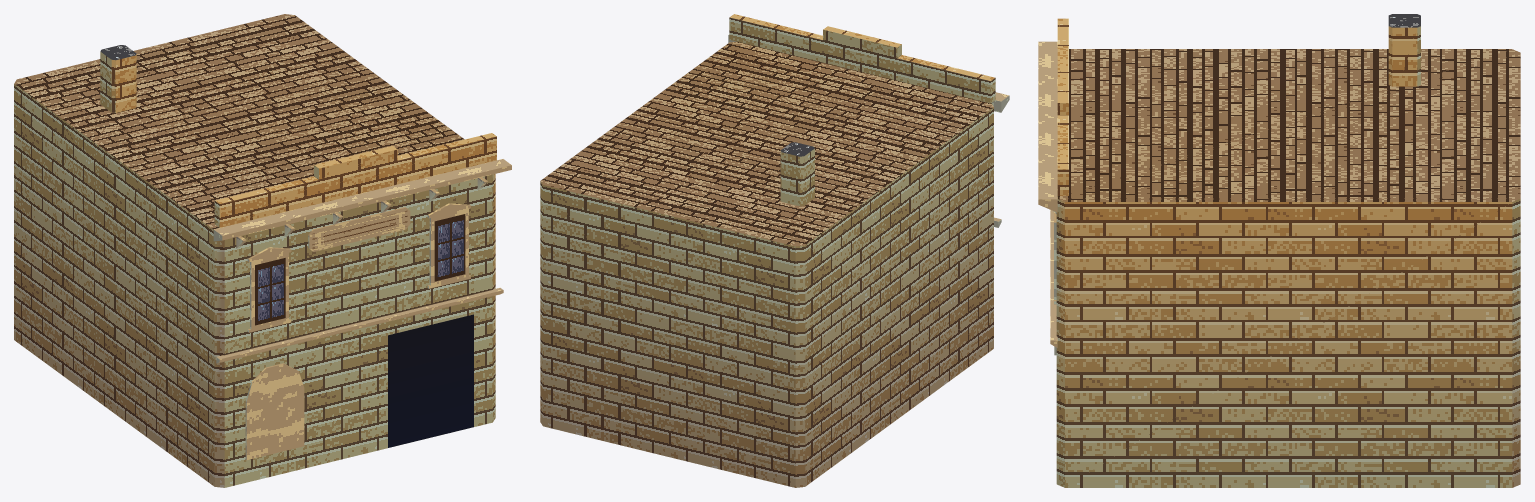
The model's file is wtown.bank__entry.glb.
3 views of the same model, side by side, from view 1: azimuth 30°, elevation 25°; view 2: azimuth 150°, elevation 25°; view 3: azimuth 270°, elevation 25° (orthographic). The views are drawn at different scales.
Parts seen in each view (by area): view 1: kit_body, kit_trim, kit_card_panes, kit_windows, kit_chimney; view 2: kit_body, kit_trim, kit_chimney; view 3: kit_body, kit_trim, kit_chimney.
Boxes of the visible parts, x1,y1,x2,y2 form: kit_body: (14, 14, 495, 487); kit_trim: (213, 133, 511, 363); kit_card_panes: (255, 210, 473, 447); kit_windows: (245, 203, 470, 459); kit_chimney: (100, 45, 136, 112); kit_body: (540, 41, 993, 487); kit_trim: (728, 14, 1009, 227); kit_chimney: (780, 142, 814, 206); kit_body: (1056, 49, 1520, 487); kit_trim: (1038, 18, 1068, 347); kit_chimney: (1388, 14, 1420, 86).
Bounding box in the file's own units: 8.04 × 8.2 × 10.4.
7 materials, 7 textured.
